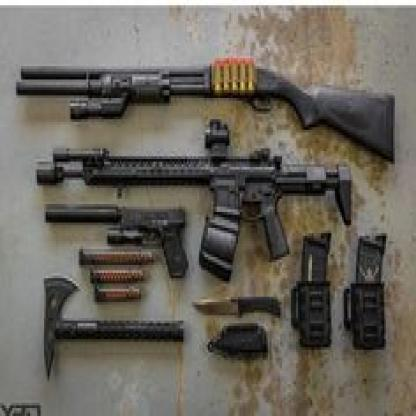Gun: (34, 117, 353, 285), (14, 54, 396, 167)
Knife: (192, 292, 283, 321)
Pistol: (44, 198, 189, 282)
